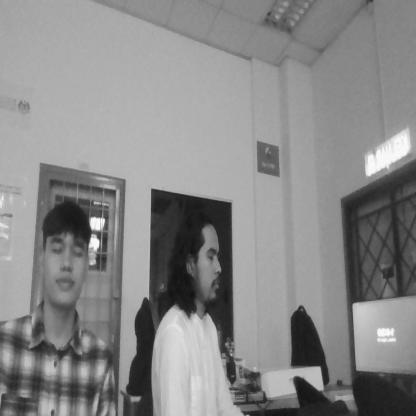Closed-Eyes: (45, 228, 87, 264), (200, 247, 223, 270)
